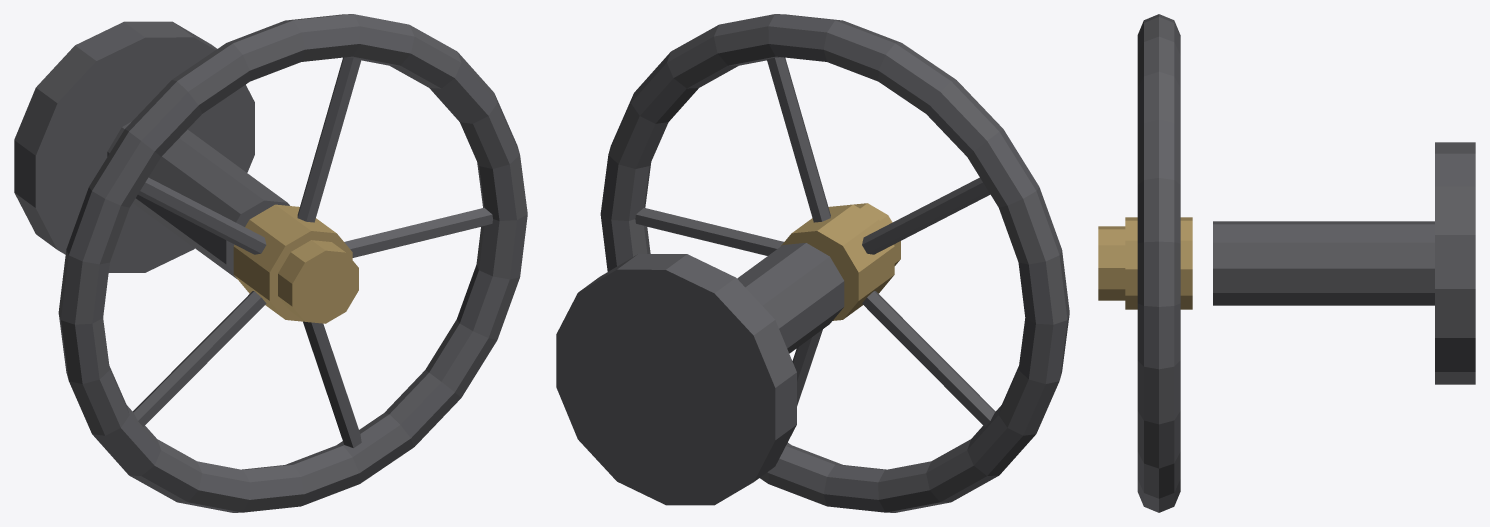
The picture shows the model from 3 angles, left to right: view 1: azimuth 30°, elevation 25°; view 2: azimuth 150°, elevation 25°; view 3: azimuth 270°, elevation 25°; orthographic projection. The views are drawn at different scales.
Visible parts, largest first — view 1: valveWheel; view 2: valveWheel; view 3: valveWheel.
Part boxes in pixels (x1=…): valveWheel: x1=14, y1=14, x2=527, y2=512; valveWheel: x1=556, y1=14, x2=1069, y2=512; valveWheel: x1=1098, y1=14, x2=1475, y2=512.
Size of the model in its own units: 0.372 by 0.372 by 0.28.
